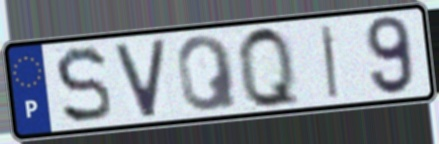9: (365, 13, 416, 98)
I: (318, 22, 341, 101)
Q: (234, 23, 305, 112), (174, 33, 242, 115)
S: (52, 44, 115, 127)
V: (111, 35, 169, 121)
